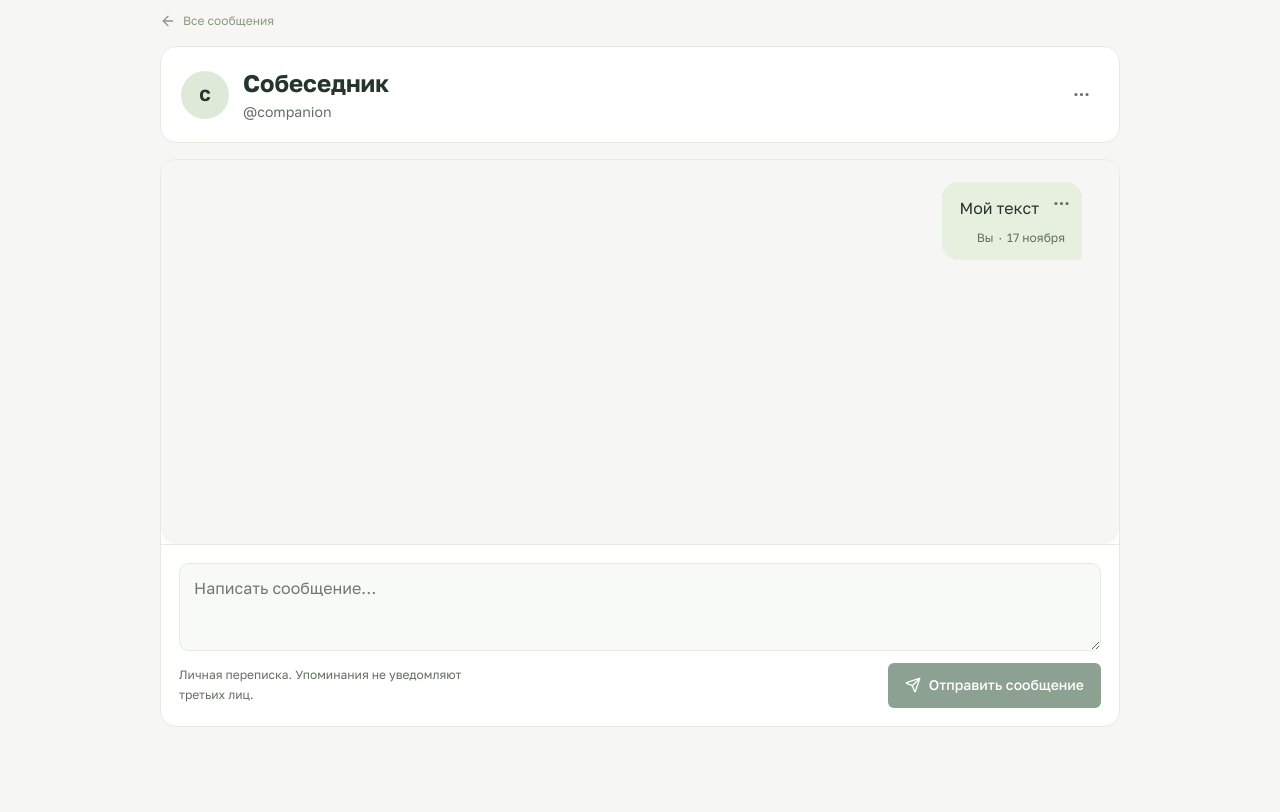
Test: message actions open separately and deletion keeps a tombstone without sending another message
The width and height of the screenshot is (1280, 812).
Expected: the text "Мой текст" is shown, left=960, top=198, right=1039, bottom=218
Click the heading named "Действия с вашим сообщением". click: point(1061, 203)
box: left=1052, top=194, right=1070, bottom=213
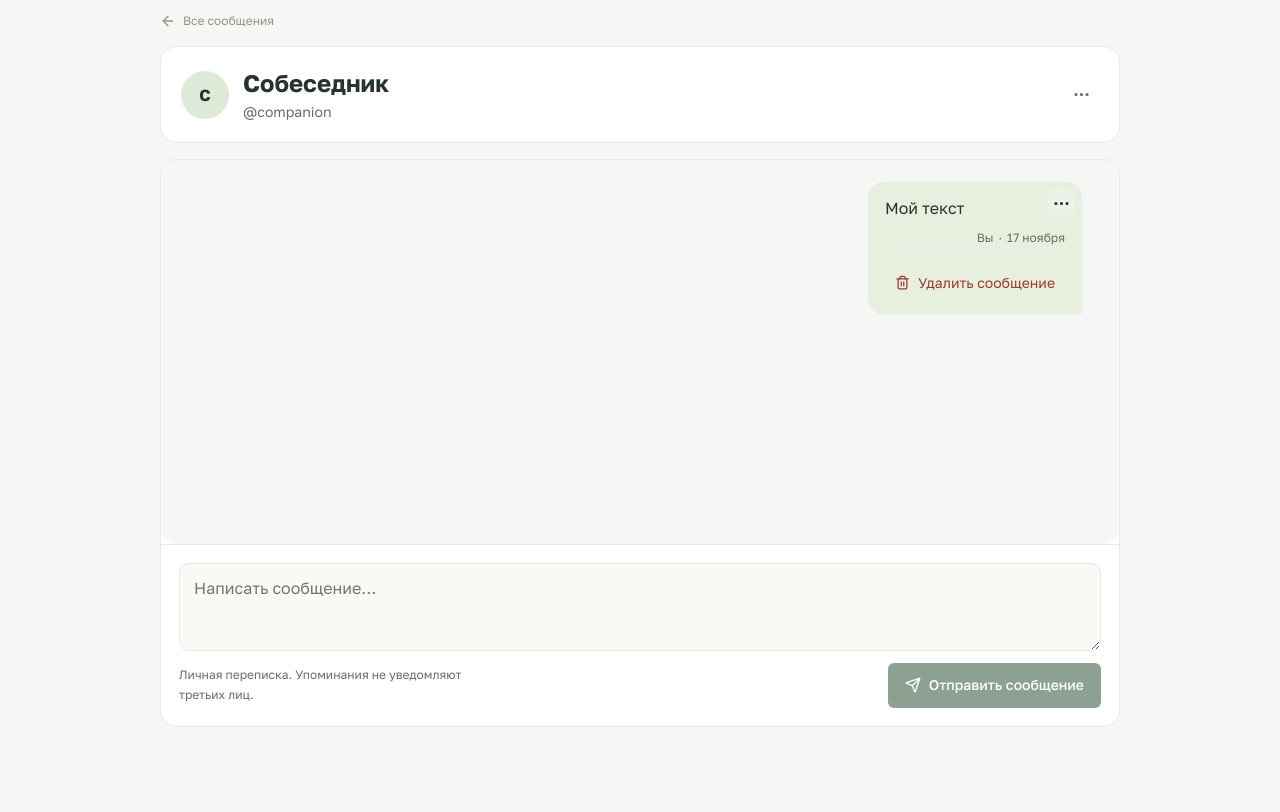
Click the button "Удалить сообщение". click: point(975, 282)
box: left=885, top=264, right=1065, bottom=302
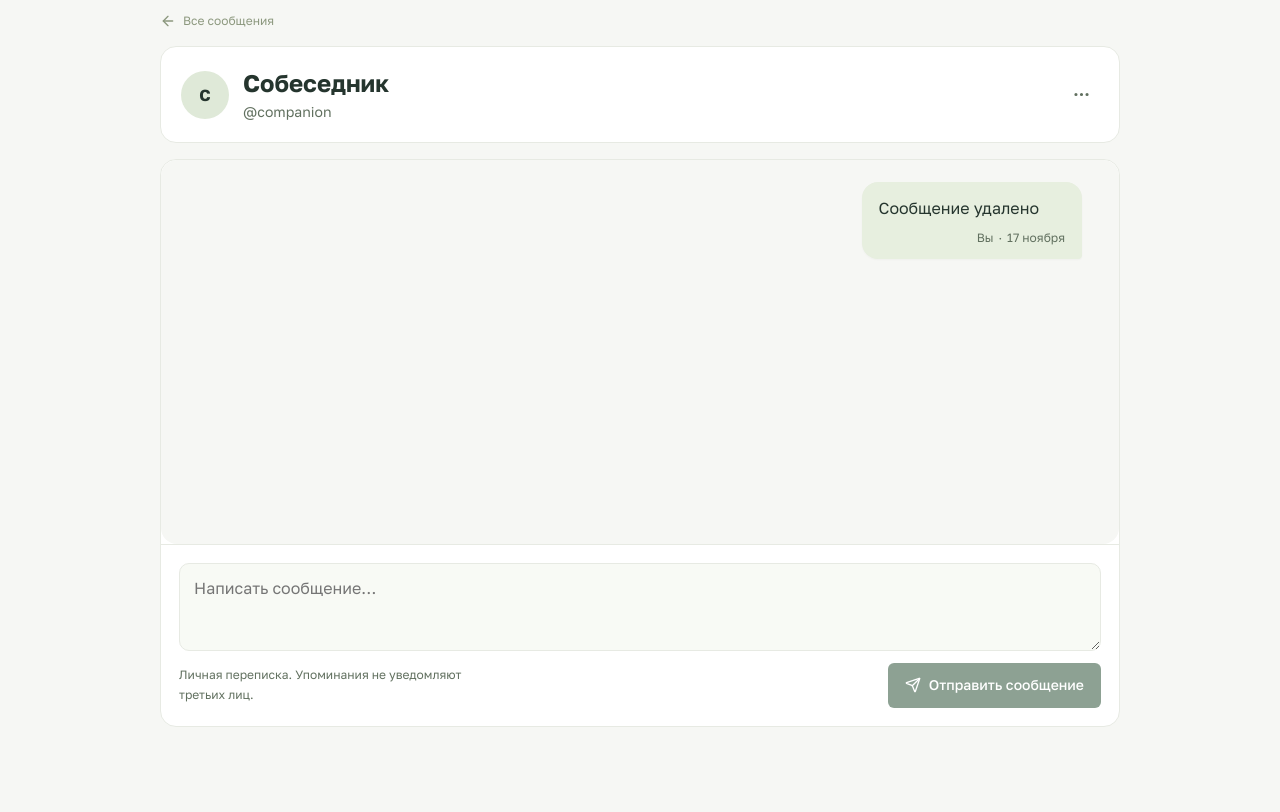
Now the text "Сообщение удалено" is shown, box left=878, top=198, right=1039, bottom=218
Now the text "Мой текст" is gone
